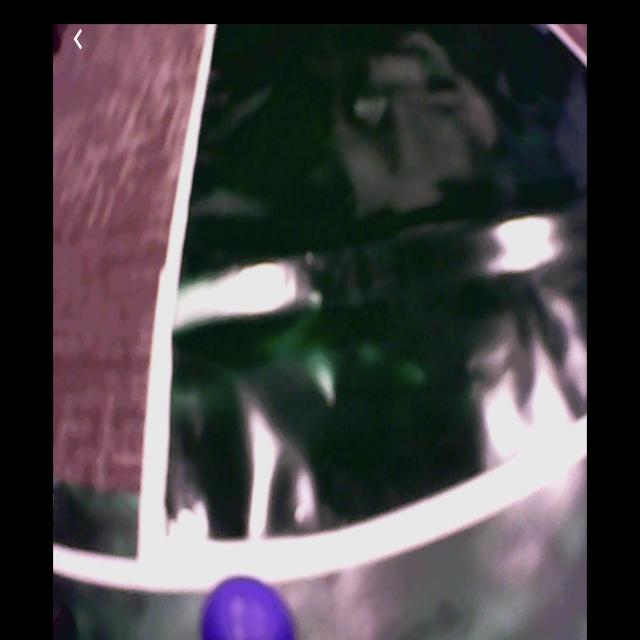ball: (202, 576, 298, 640)
